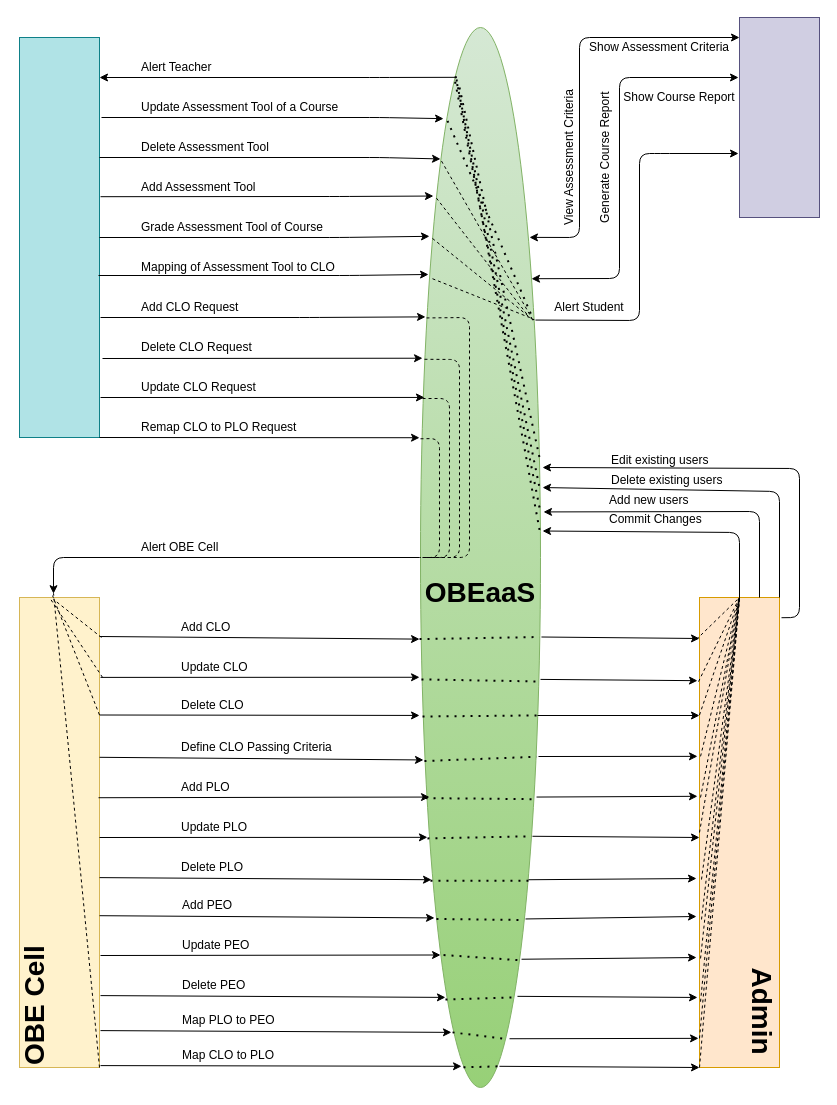
Image size: 837x1105. Some labels were removed from this diagram. Here are the shapes that lost their labels. From the top down, the centre of each, then its label:
pixel 779 117: Student
pixel 59 237: Teacher
